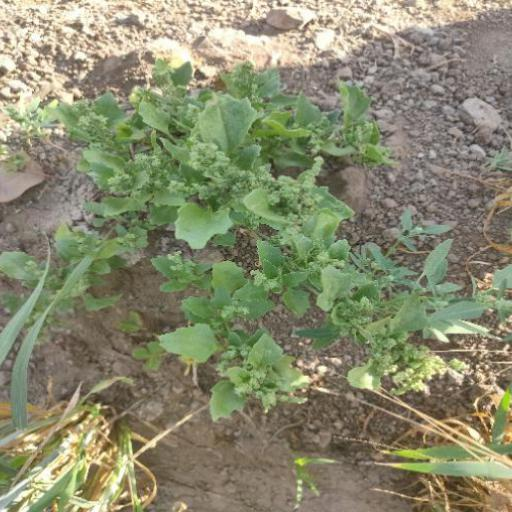crop: (49, 48, 412, 427)
